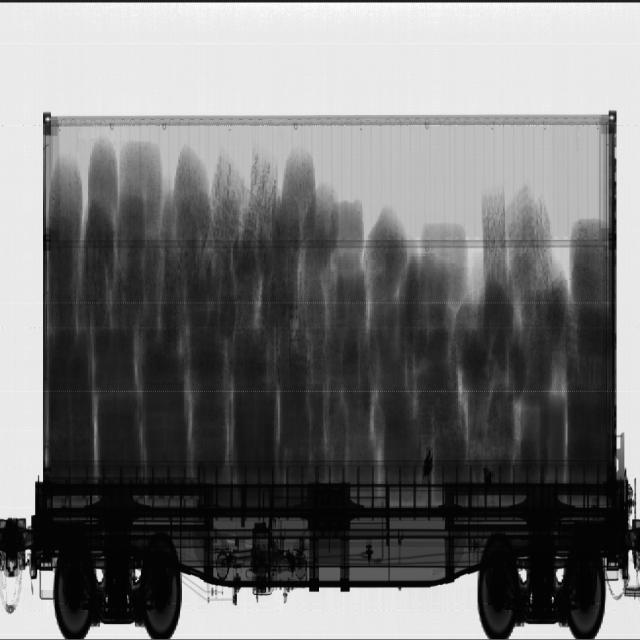shoes: (209, 148, 281, 252), (483, 186, 556, 278)
textiles: (233, 145, 612, 478), (48, 141, 232, 477)
